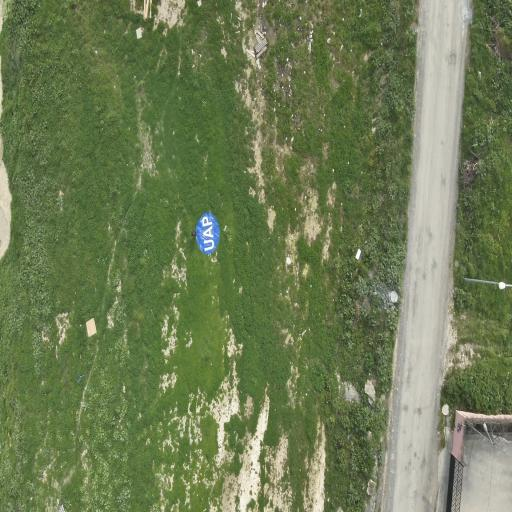UAP: (196, 212, 219, 254)
person: (192, 230, 196, 237)
